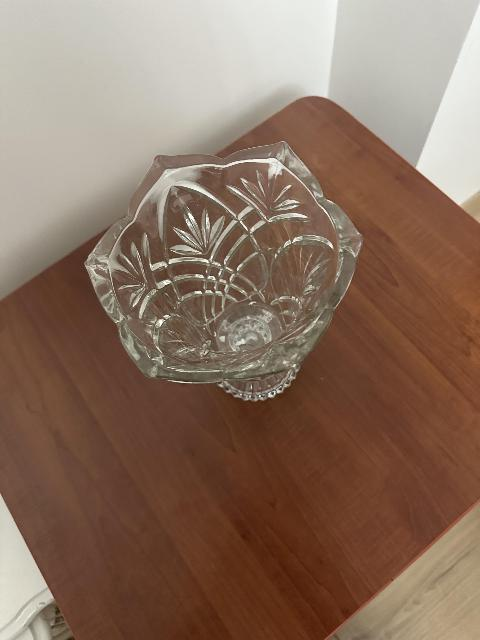Cam: (86, 141, 362, 403)
